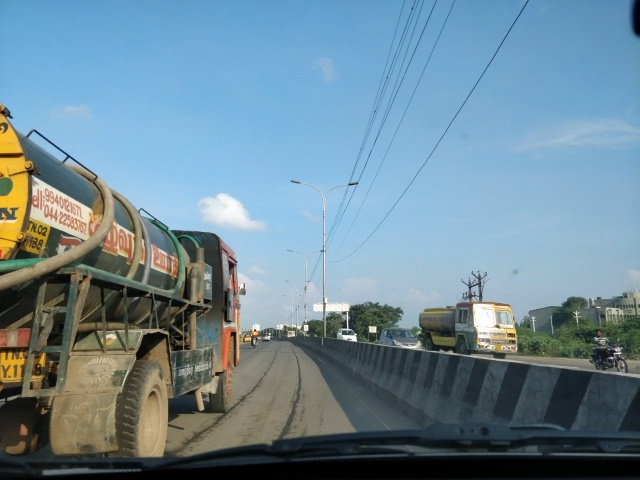car: (381, 329, 421, 349), (334, 327, 359, 340), (261, 334, 271, 343)
motorbike: (591, 334, 629, 372), (252, 328, 260, 351)
truck: (1, 99, 246, 458), (425, 304, 521, 359)
